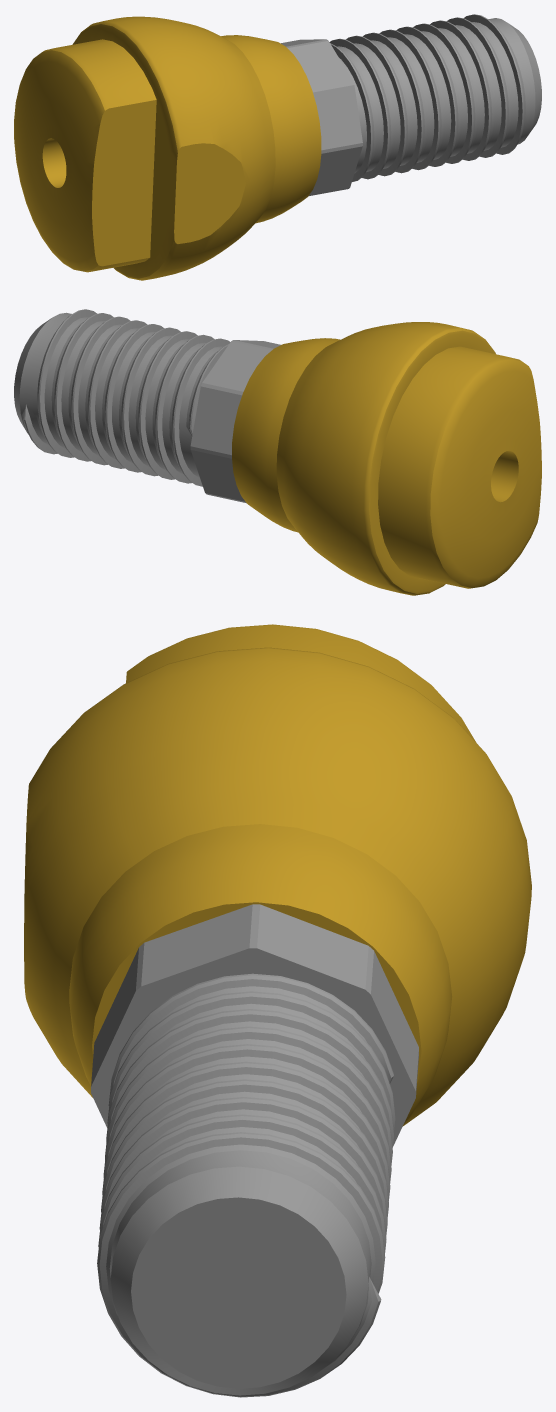
The model's file is HealingAbutmentIncisor.fbx.
3 views of the same model, one above another, from view 1: azimuth 30°, elevation 25°; view 2: azimuth 150°, elevation 25°; view 3: azimuth 270°, elevation 25° (orthographic). The views are drawn at different scales.
Visible parts, largest first — view 1: ToolHealingAbutmentIncisor; view 2: ToolHealingAbutmentIncisor; view 3: ToolHealingAbutmentIncisor.
Part boxes in pixels (x1,y1,x2,y2): ToolHealingAbutmentIncisor: (14,14,541,280); ToolHealingAbutmentIncisor: (14,309,541,595); ToolHealingAbutmentIncisor: (24,624,531,1397).
Bounding box in the file's own units: 0.3585 × 0.1793 × 0.1726.
